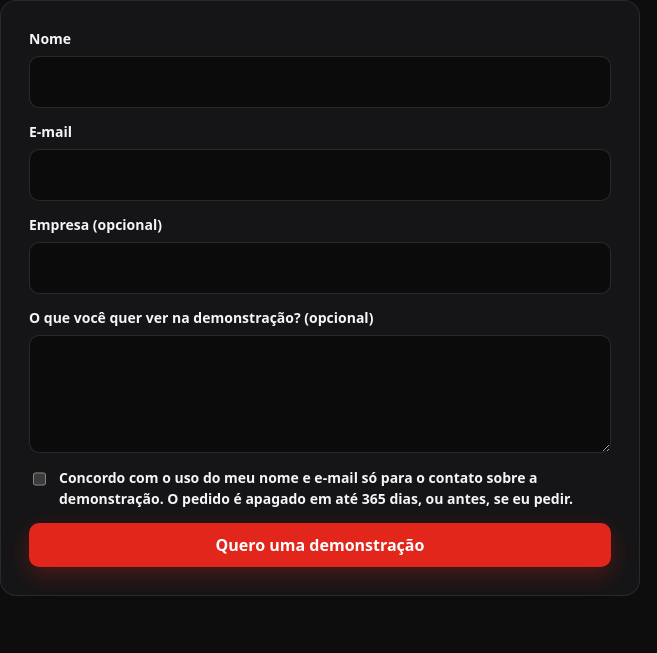
Test: FormularioDeDemonstracao › falha de rede mostra o erro genérico
Type "Ana Souza" into the field labelled "Nome". click: {"x": 320, "y": 82}
box: [29,56,611,108]
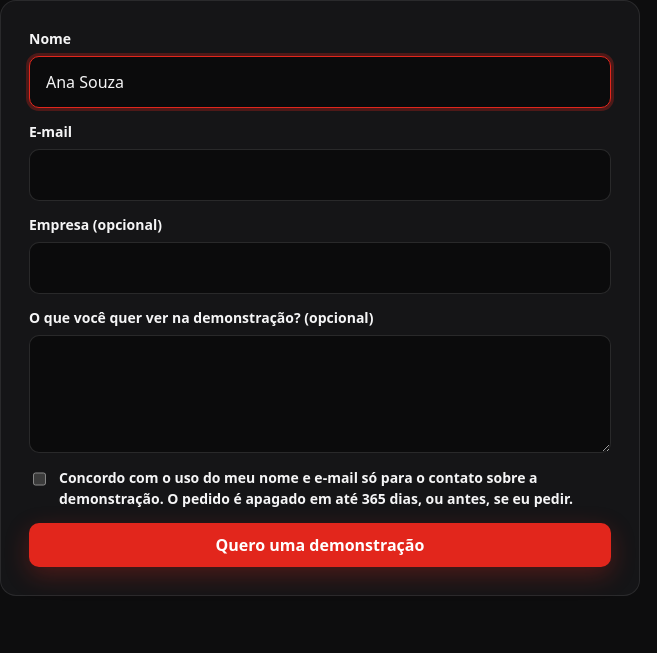
Type "ana@empresa.com.br" into the field labelled "E-mail". click: {"x": 320, "y": 175}
box: [29,149,611,201]
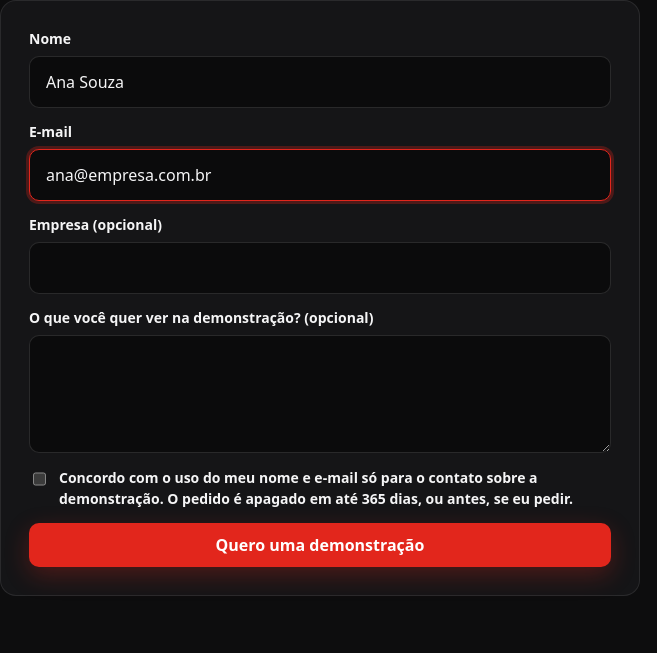
Type "Empresa X" into the field labelled "Empresa (opcional)". click: {"x": 320, "y": 268}
box: [29,242,611,294]
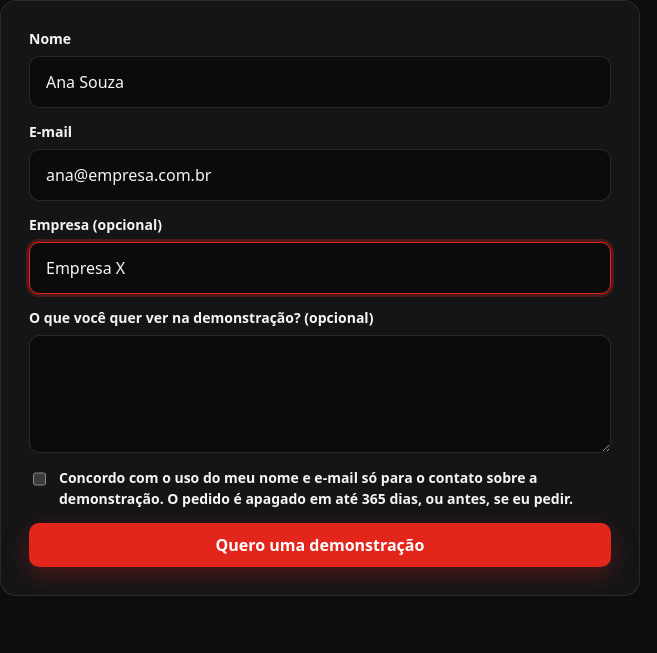
Click the checkbox. click: {"x": 40, "y": 479}
box: [33,470,46,488]
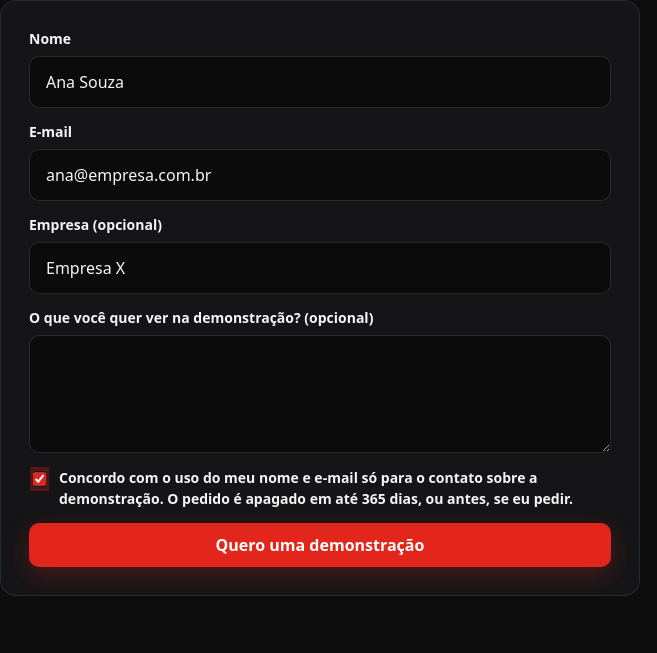
Click the button "Quero uma demonstração". click: {"x": 320, "y": 545}
box: [29,523,611,567]
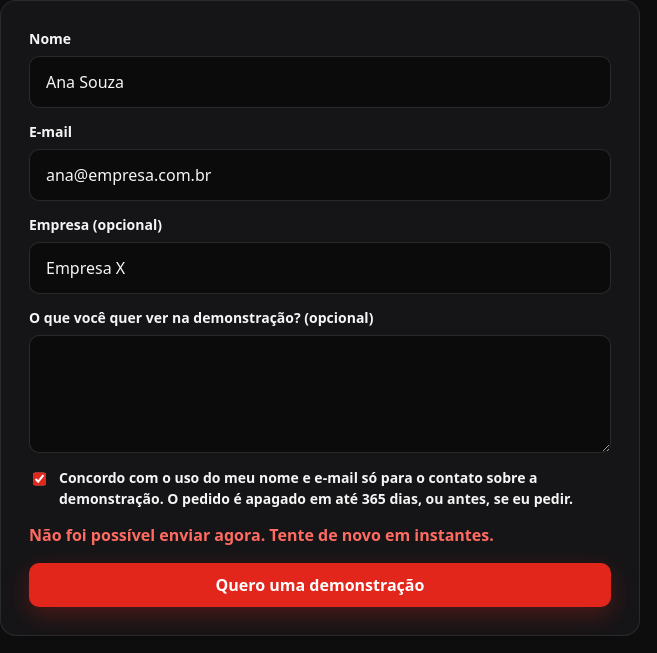
expect the message shows "Não foi possível enviar agora": met, box [29,524,494,546]
